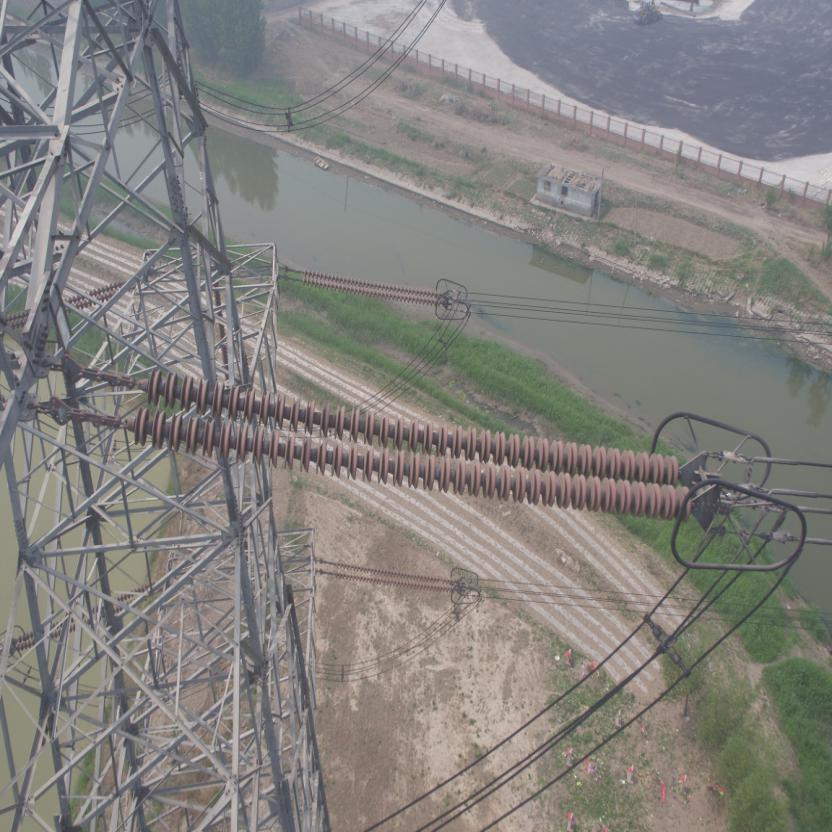insulator: (104, 365, 700, 521), (4, 582, 152, 652), (3, 276, 127, 334), (296, 263, 445, 306), (325, 558, 460, 592)
